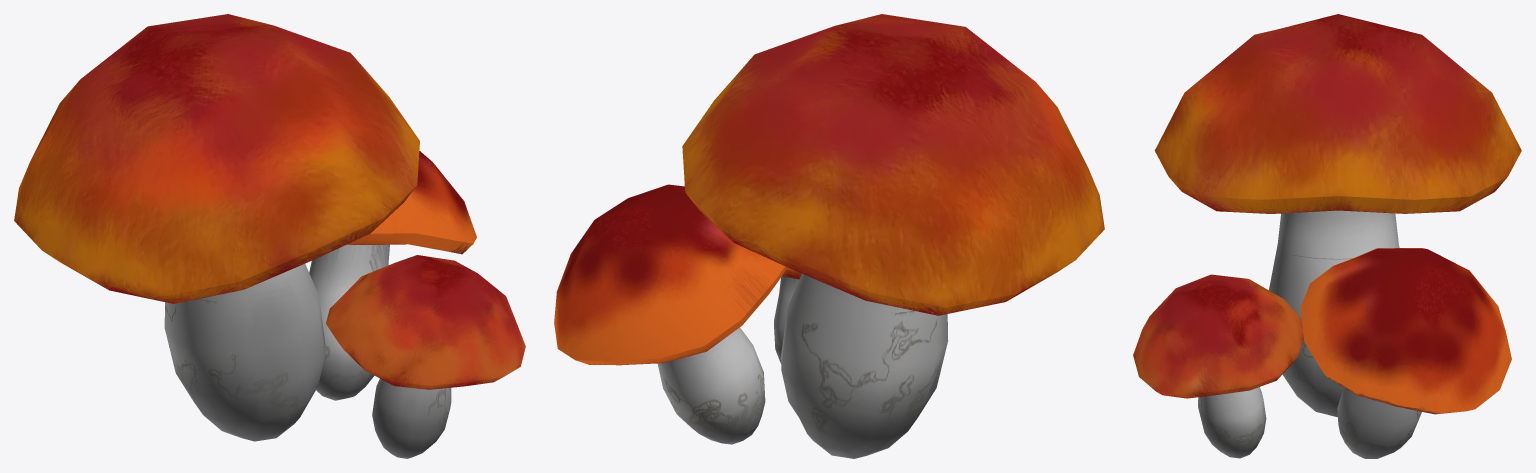
The model's file is spark_mushroom.glb.
3 renders of one model, left to right at view 1: azimuth 30°, elevation 25°; view 2: azimuth 150°, elevation 25°; view 3: azimuth 270°, elevation 25°, orthographic. The views are drawn at different scales.
Visible parts, largest first — view 1: Object_3, Object_2; view 2: Object_3, Object_2; view 3: Object_3, Object_2.
Part boxes in pixels (x1=…): Object_3: x1=14, y1=14, x2=525, y2=389; Object_2: x1=164, y1=244, x2=451, y2=458; Object_3: x1=554, y1=14, x2=1104, y2=365; Object_2: x1=657, y1=274, x2=948, y2=458; Object_3: x1=1133, y1=14, x2=1521, y2=414; Object_2: x1=1198, y1=210, x2=1421, y2=458.
Size of the model in its own units: 12.73 by 11.08 by 10.53.
Materials: 2 (2 with a texture image).
